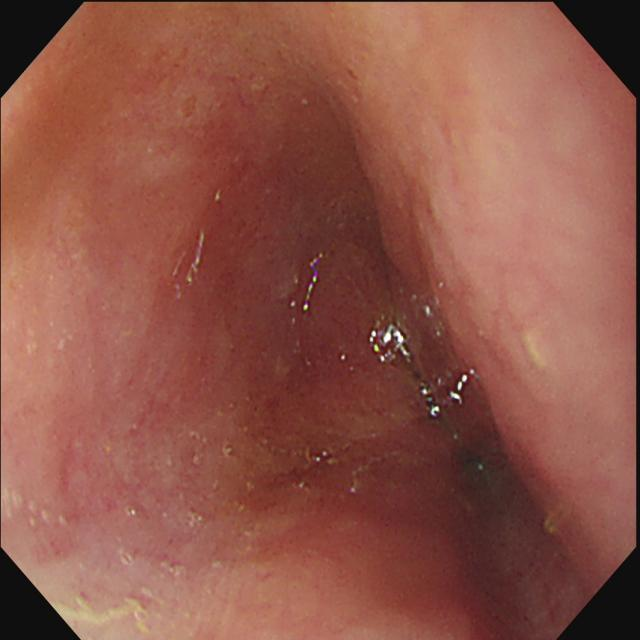U: (370, 324, 412, 367), (450, 376, 467, 407)
